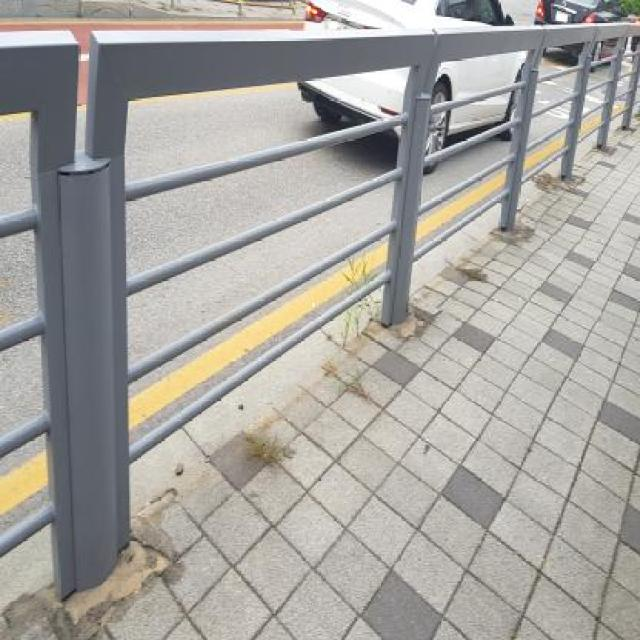fence: (0, 21, 446, 598), (468, 13, 627, 212)
